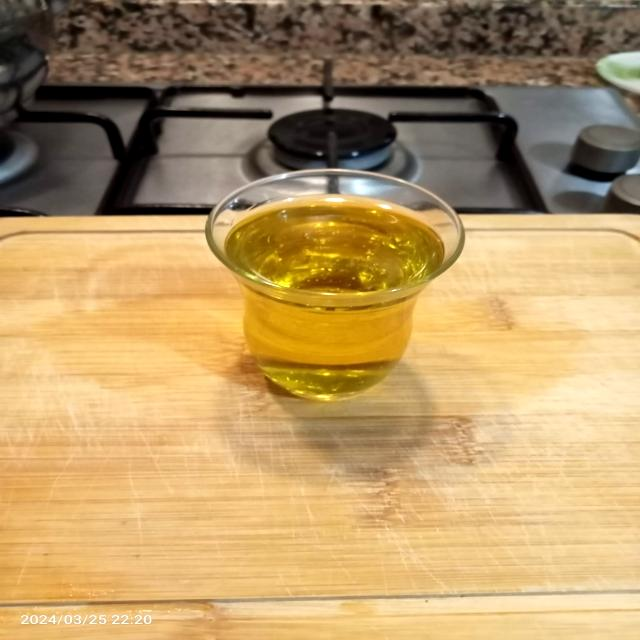olive oil: (197, 168, 472, 404)
